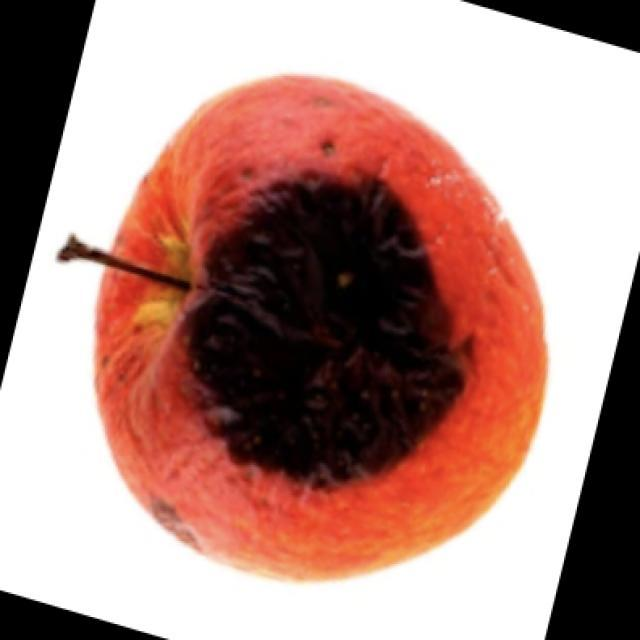Rotten: (112, 79, 535, 568)
